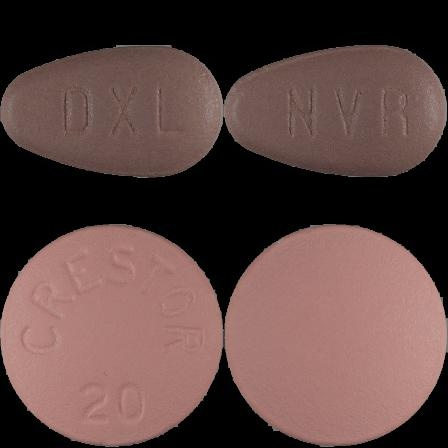54868-5082: (0, 0, 224, 224)
